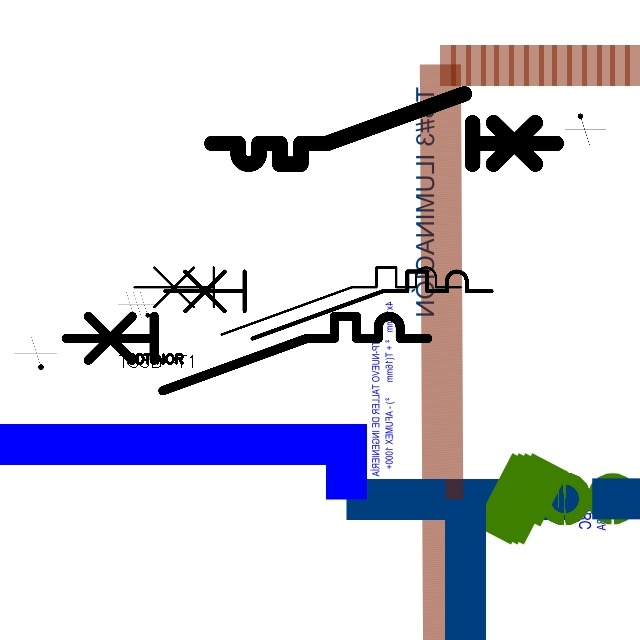interruptor_termomagnetico: (57, 307, 437, 400), (203, 85, 565, 173), (126, 259, 469, 343), (156, 263, 499, 347)
